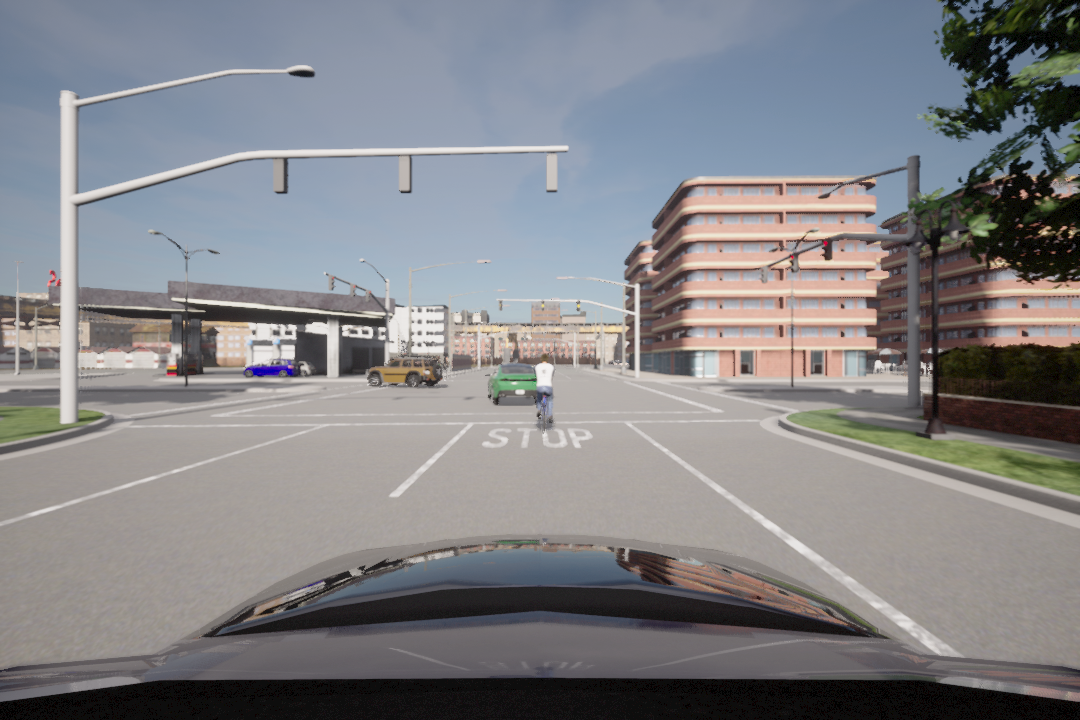TrafficLight: (821, 237, 834, 261), (789, 252, 797, 274), (328, 274, 336, 293), (365, 288, 373, 305), (350, 283, 357, 299), (575, 300, 580, 311), (540, 300, 545, 311)
